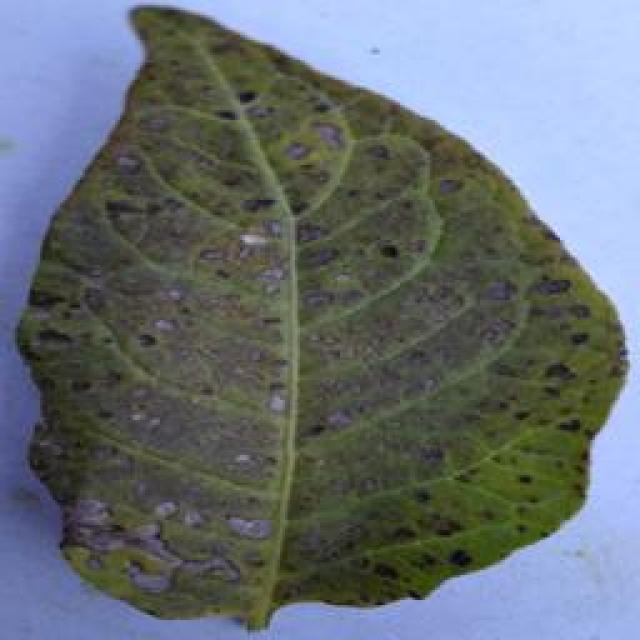Potato_Early_Blight: (26, 20, 625, 634)
